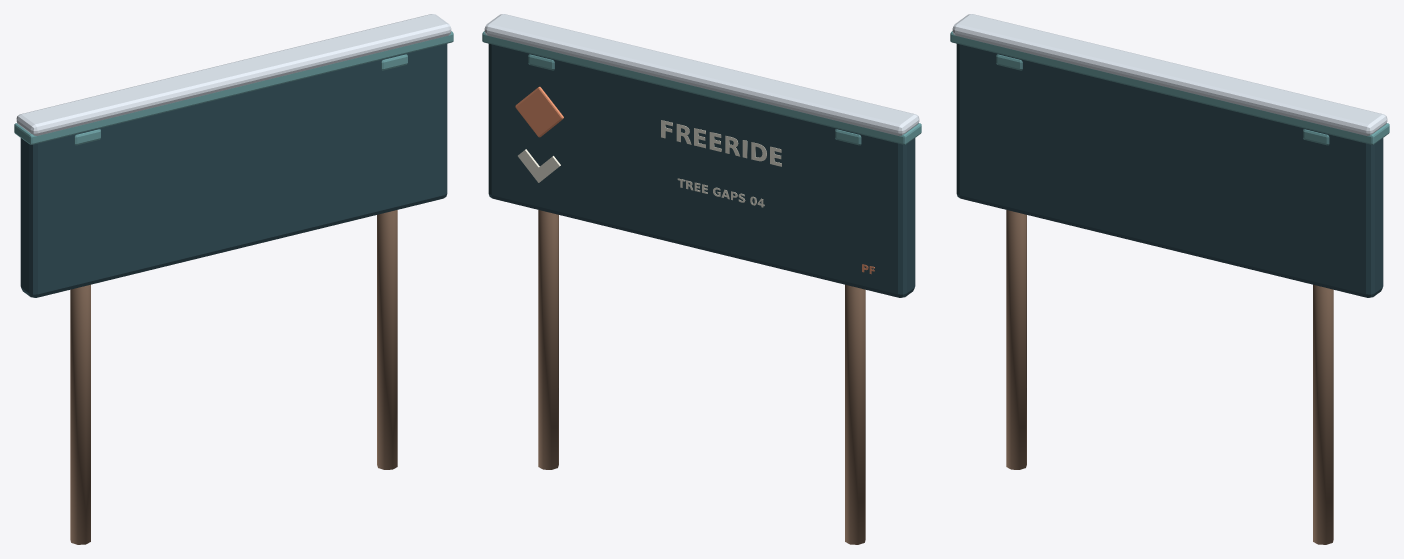
Rendered from SignFreeride.fbx.
The picture shows the model from 3 angles, left to right: view 1: azimuth 30°, elevation 25°; view 2: azimuth 150°, elevation 25°; view 3: azimuth 330°, elevation 25°; orthographic projection.
Visible parts, largest first — view 1: Visual_SignFreeride; view 2: Visual_SignFreeride; view 3: Visual_SignFreeride.
Part boxes in pixels (x1,y1,x2,y2): Visual_SignFreeride: [14, 14, 453, 544]; Visual_SignFreeride: [482, 14, 921, 544]; Visual_SignFreeride: [950, 14, 1389, 544].
Size of what is drawn, in the model's own units: 3.4 by 3.32 by 0.268.
